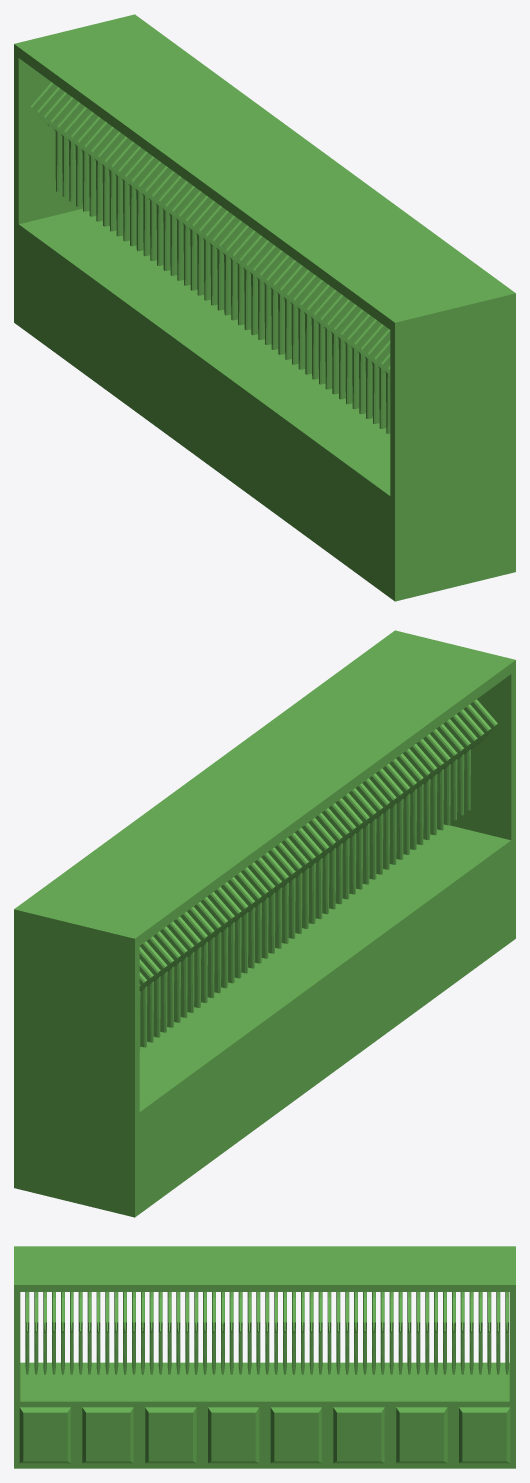
The model's file is Closet.fbx.
The picture shows the model from 3 angles, top to bottom: view 1: azimuth 30°, elevation 25°; view 2: azimuth 150°, elevation 25°; view 3: azimuth 270°, elevation 25°; orthographic projection. The views are drawn at different scales.
Visible parts, largest first — view 1: Dresser, Shirts; view 2: Dresser, Shirts; view 3: Dresser, Shirts, Drawer, Drawer1, Drawer3, Drawer4, Drawer6, Rawer, Drawer2, Drawer5.
Boxes of the visible parts, x1=… form: Dresser: x1=14, y1=14, x2=515, y2=601; Shirts: x1=28, y1=80, x2=390, y2=433; Dresser: x1=14, y1=630, x2=515, y2=1217; Shirts: x1=139, y1=699, x2=497, y2=1051; Dresser: x1=14, y1=1246, x2=515, y2=1468; Shirts: x1=25, y1=1292, x2=508, y2=1374; Drawer: x1=145, y1=1407, x2=196, y2=1463; Drawer1: x1=82, y1=1407, x2=133, y2=1463; Drawer3: x1=333, y1=1407, x2=384, y2=1463; Drawer4: x1=396, y1=1407, x2=447, y2=1463; Drawer6: x1=270, y1=1407, x2=321, y2=1463; Rawer: x1=208, y1=1407, x2=259, y2=1463; Drawer2: x1=19, y1=1407, x2=70, y2=1463; Drawer5: x1=459, y1=1407, x2=510, y2=1463.
Bounding box in the file's own units: 108 × 228 × 565.
